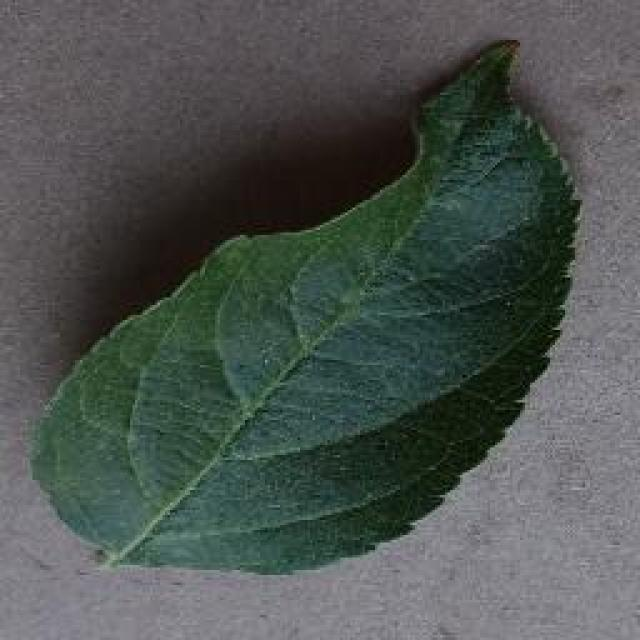apple healthy: (25, 35, 583, 575)
